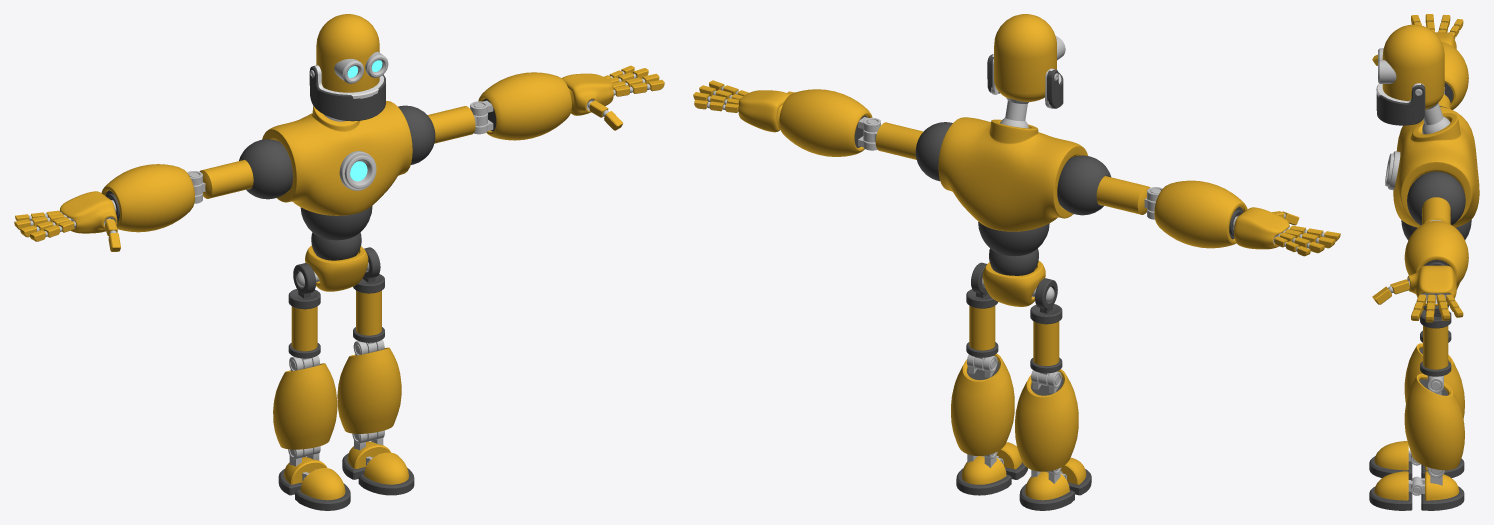
The model's file is Robot.fbx.
3 views of the same model, side by side, from view 1: azimuth 30°, elevation 25°; view 2: azimuth 150°, elevation 25°; view 3: azimuth 270°, elevation 25° (orthographic). The views are drawn at different scales.
Visible parts, largest first — view 1: UpperTorso, Lower Arm.L, Lower Arm.R, Lower Leg.R, Lower Leg.L, Upper Arm.R, Head, LowerTorso, Upper Arm.L, Upper Leg.R, Upper Leg.L, Jaw (+8 smaller); view 2: UpperTorso, Lower Leg.R, Lower Leg.L, Lower Arm.R, Lower Arm.L, Head, Upper Arm.R, LowerTorso, Upper Arm.L, Upper Leg.R, Upper Leg.L, Hip (+6 smaller); view 3: UpperTorso, Lower Leg.L, Head, Lower Arm.L, Upper Arm.L, Upper Leg.L, Hand.L, Foot Front.L, Jaw, Lower Arm.R, Foot Back.L, Foot Front.R (+12 smaller).
Boxes of the visible parts, x1,y1,x2,y2 form: UpperTorso: (262,101,412,215); Lower Arm.L: (478,72,571,140); Lower Arm.R: (101,164,194,232); Lower Leg.R: (273,363,337,449); Lower Leg.L: (337,347,401,433); Upper Arm.R: (199,139,293,199); Head: (316,14,379,92); LowerTorso: (300,206,372,260); Upper Arm.L: (398,105,475,164); Upper Leg.R: (288,263,320,358); Upper Leg.L: (353,247,384,342); Jaw: (309,65,385,121); UpperTorso: (938,117,1087,231); Lower Leg.R: (1015,369,1078,471); Lower Leg.L: (951,353,1014,455); Lower Arm.R: (1154,180,1247,248); Lower Arm.L: (779,89,872,156); Head: (994,14,1056,101); Upper Arm.R: (1057,155,1150,215); LowerTorso: (978,222,1049,275); Upper Arm.L: (875,122,952,181); Upper Leg.R: (1030,278,1062,373); Upper Leg.L: (966,262,998,357); Hip: (982,261,1054,306); UpperTorso: (1385,107,1479,227); Lower Leg.L: (1404,373,1464,470); Head: (1382,24,1444,109); Lower Arm.L: (1404,220,1468,285); Upper Arm.L: (1407,171,1465,225); Upper Leg.L: (1420,305,1451,376); Hand.L: (1407,265,1456,305); Foot Front.L: (1369,471,1412,510); Jaw: (1376,84,1425,125); Lower Arm.R: (1442,42,1468,109); Foot Back.L: (1421,471,1464,510); Foot Front.R: (1369,441,1412,480).
Size of the model in its own units: 455 by 320 by 70.
